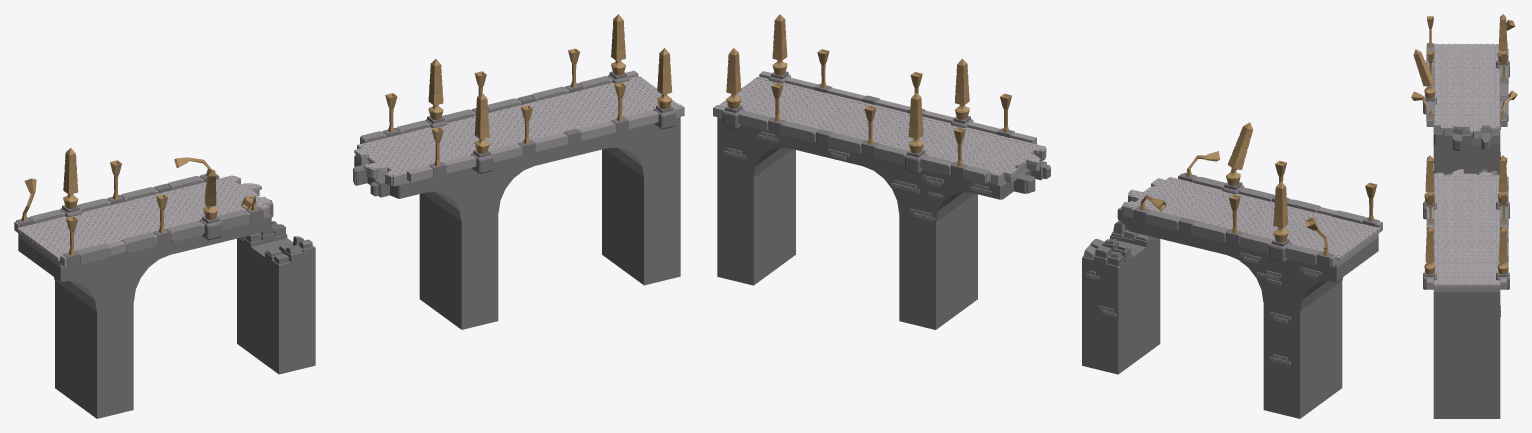
The model's file is Ponte.fbx.
3 renders of one model, left to right at view 1: azimuth 30°, elevation 25°; view 2: azimuth 150°, elevation 25°; view 3: azimuth 270°, elevation 25°, orthographic. The views are drawn at different scales.
Visible parts, largest first — view 1: Ponte (pilar.001, Ponte (pilar.002, Ponte (pilar, Cube.085, Cube.960, Ponte (pilar.003, Cube.1711, Cube.063, Cube.082, Ponte (Arco1).004, Ponte (Arco1), Ponte (Arco1).002 (+10 smaller); view 2: Ponte (pilar, Ponte (pilar.002, Ponte (pilar.001, Cube.085, Cube.960, Ponte (pilar.003, Cube.1711, Cube.082, Tijolo.002, Ponte (Arco1).004, Cube.063, Ponte (Arco1).002 (+11 smaller); view 3: Ponte (pilar, Cube.085, Cube.960, Cube.062, Ponte (pilar.002, Cube.082, Cube.070, Cube.073, Cube.1690, Cube.1685, Cube.077, Cube.1684 (+11 smaller).
Part boxes in pixels (x1=…): Ponte (pilar.001: x1=419, y1=161, x2=498, y2=329; Ponte (pilar.002: x1=55, y1=252, x2=133, y2=418; Ponte (pilar: x1=602, y1=117, x2=680, y2=285; Cube.085: x1=354, y1=76, x2=678, y2=176; Cube.960: x1=17, y1=176, x2=271, y2=260; Ponte (pilar.003: x1=237, y1=267, x2=315, y2=374; Cube.1711: x1=237, y1=221, x2=315, y2=297; Cube.063: x1=360, y1=70, x2=684, y2=182; Cube.082: x1=16, y1=148, x2=125, y2=267; Ponte (Arco1).004: x1=18, y1=237, x2=96, y2=310; Ponte (Arco1): x1=605, y1=126, x2=644, y2=176; Ponte (Arco1).002: x1=422, y1=170, x2=461, y2=221; Ponte (pilar: x1=717, y1=117, x2=795, y2=285; Ponte (pilar.002: x1=1263, y1=252, x2=1342, y2=418; Ponte (pilar.001: x1=899, y1=163, x2=977, y2=329; Cube.085: x1=718, y1=76, x2=1044, y2=177; Cube.960: x1=1124, y1=177, x2=1379, y2=260; Ponte (pilar.003: x1=1082, y1=267, x2=1160, y2=374; Cube.1711: x1=1082, y1=220, x2=1160, y2=297; Cube.082: x1=1226, y1=181, x2=1378, y2=267; Tijolo.002: x1=724, y1=131, x2=1321, y2=365; Ponte (Arco1).004: x1=1300, y1=237, x2=1378, y2=310; Cube.063: x1=713, y1=71, x2=1036, y2=182; Ponte (Arco1).002: x1=936, y1=172, x2=974, y2=221; Ponte (pilar: x1=1433, y1=292, x2=1500, y2=418; Cube.085: x1=1434, y1=169, x2=1499, y2=287; Cube.960: x1=1434, y1=43, x2=1498, y2=133; Cube.062: x1=1433, y1=186, x2=1500, y2=292; Ponte (pilar.002: x1=1433, y1=144, x2=1500, y2=175; Cube.082: x1=1433, y1=14, x2=1515, y2=87; Cube.070: x1=1433, y1=133, x2=1500, y2=151; Cube.073: x1=1433, y1=115, x2=1500, y2=138; Cube.1690: x1=1413, y1=49, x2=1436, y2=114; Cube.1685: x1=1423, y1=226, x2=1436, y2=289; Cube.077: x1=1496, y1=226, x2=1509, y2=289; Cube.1684: x1=1423, y1=155, x2=1436, y2=219.
Bounding box in the file's own units: 6819 × 2458 × 1278.
